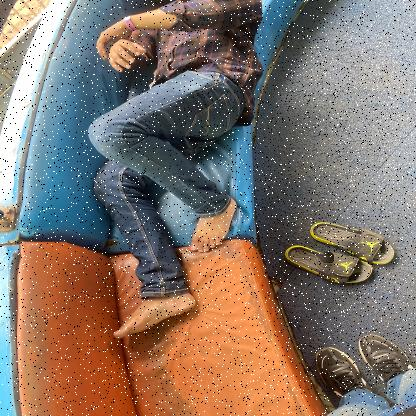hand: (67, 3, 209, 58), (77, 41, 159, 75)
leg: (81, 229, 204, 348), (133, 161, 256, 252)
